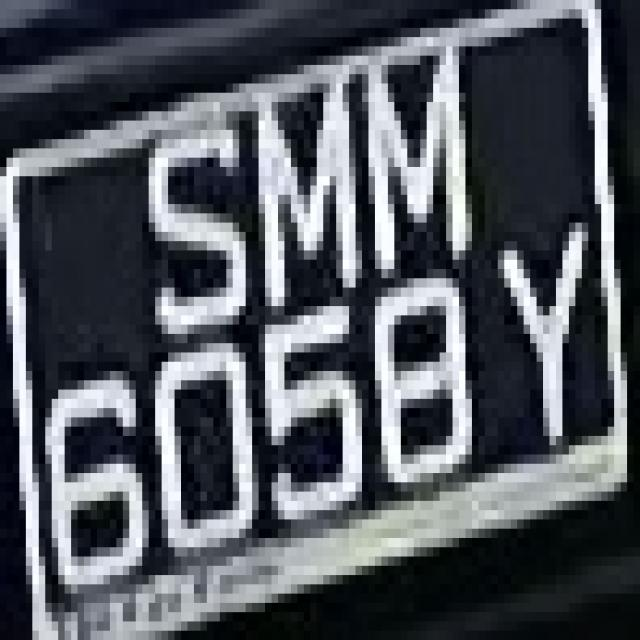0: (155, 297, 259, 547)
5: (252, 278, 362, 538)
6: (39, 343, 155, 622)
8: (349, 260, 491, 501)
M: (342, 46, 484, 297), (233, 37, 362, 297)
S: (129, 84, 252, 352)
Y: (478, 195, 608, 464)
